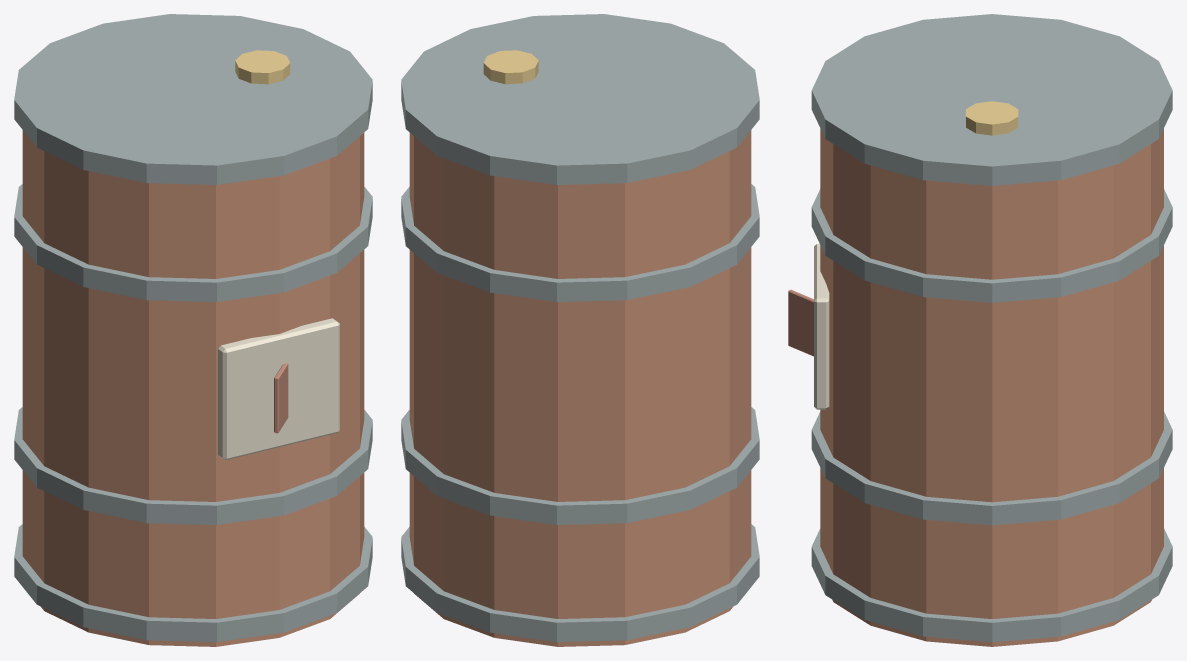
Rendered from fuel_drum.glb.
3 views of the same model, side by side, from view 1: azimuth 30°, elevation 25°; view 2: azimuth 150°, elevation 25°; view 3: azimuth 270°, elevation 25° (orthographic).
Parts seen in each view (by area): view 1: fuel_drum; view 2: fuel_drum; view 3: fuel_drum.
Boxes of the visible parts, x1,y1,x2,y2 form: fuel_drum: (14,14,372,646); fuel_drum: (401,14,759,646); fuel_drum: (788,14,1172,646).
Size of the model in its own units: 0.588 by 0.89 by 0.6261.
